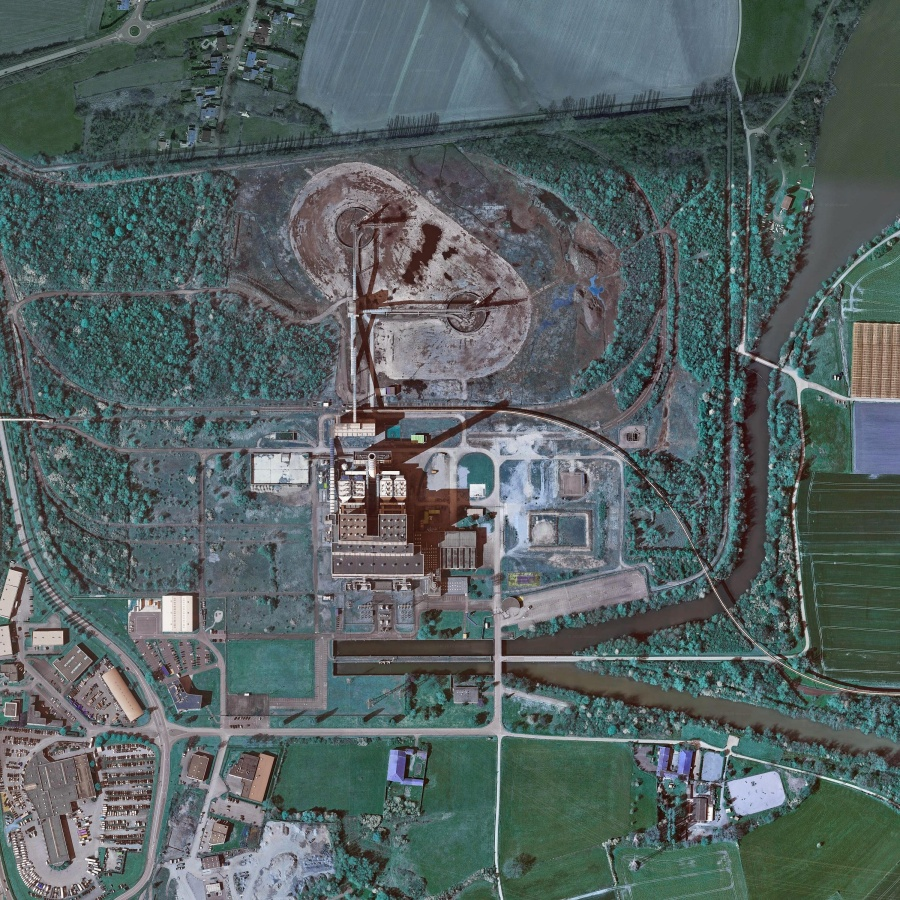PowerPlant: (257, 162, 530, 588)
